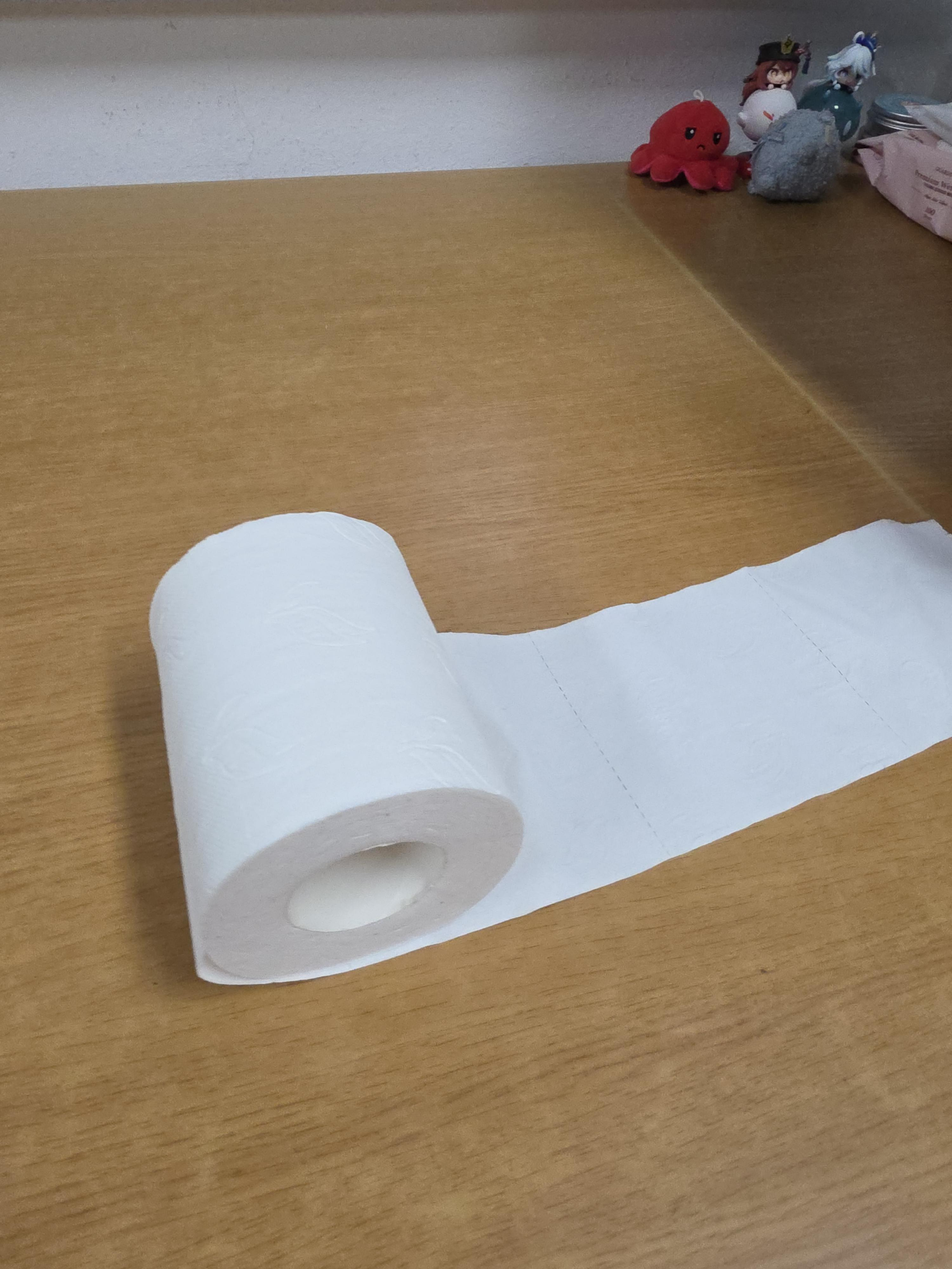tissue: (149, 510, 951, 987)
